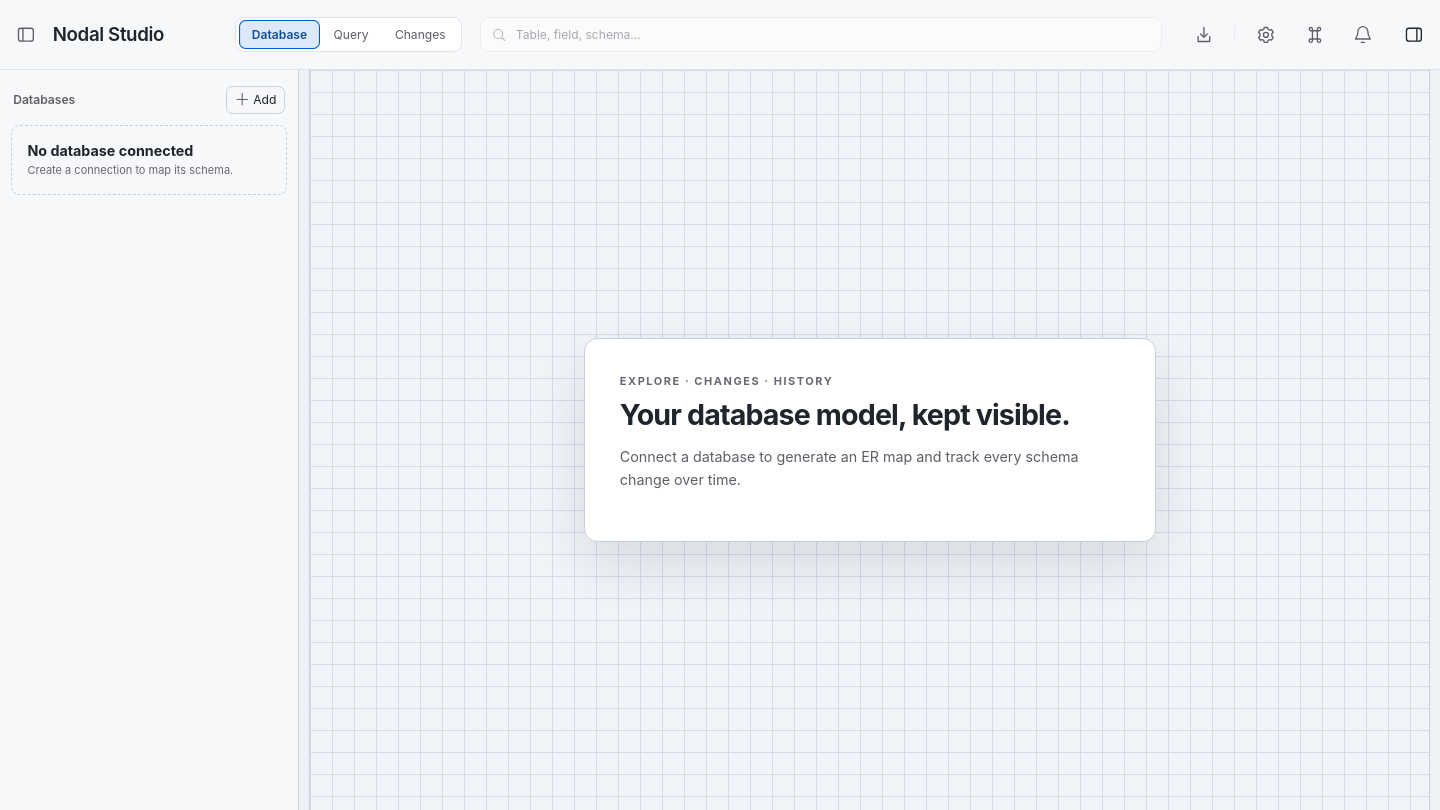
Test case: App capability integration › opens Changes without a source and explains how to begin
Click the button "Changes" at (420, 35), box [382, 20, 459, 49]
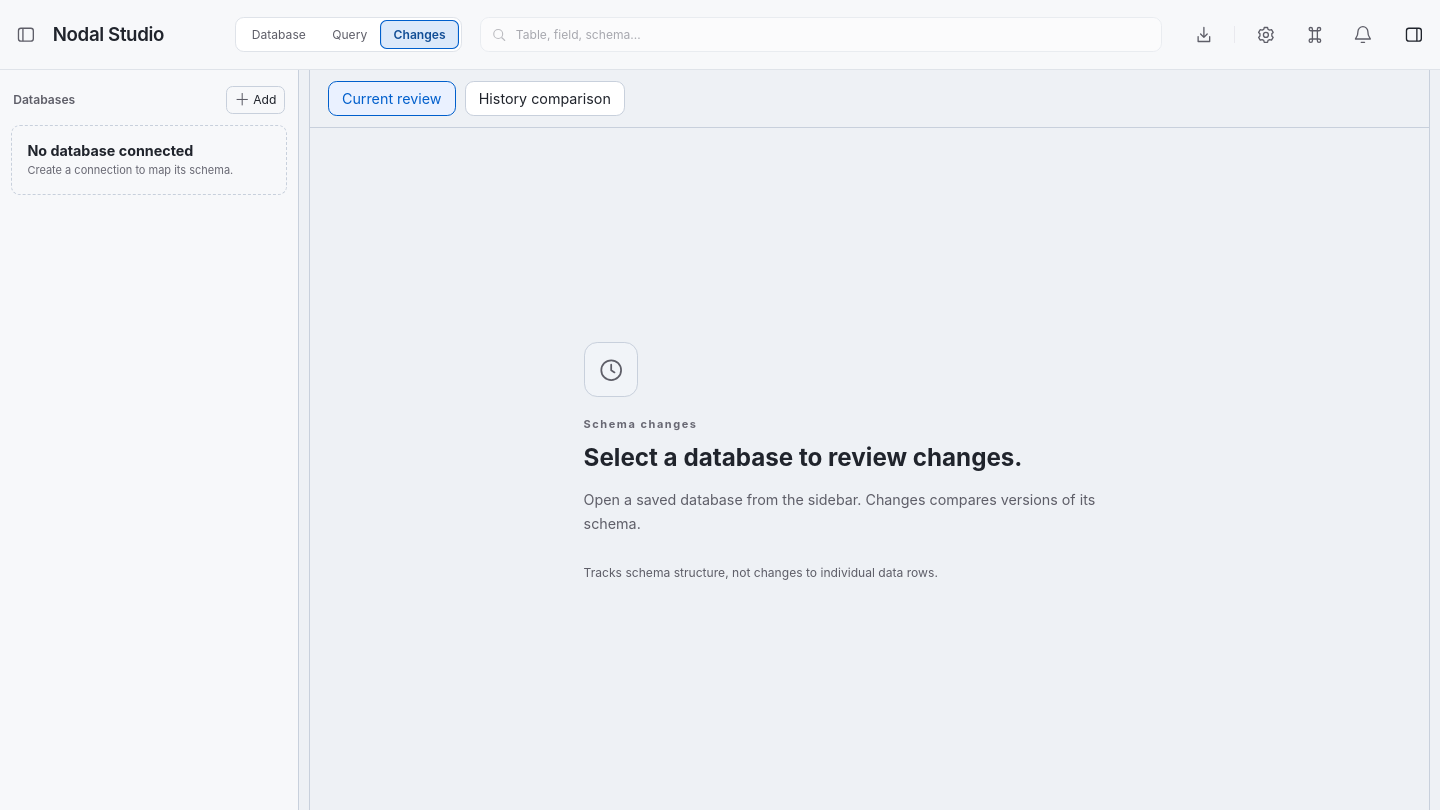
Now the element "Schema changes" shows "Select a database to review changes.", box [584, 443, 1022, 472]
